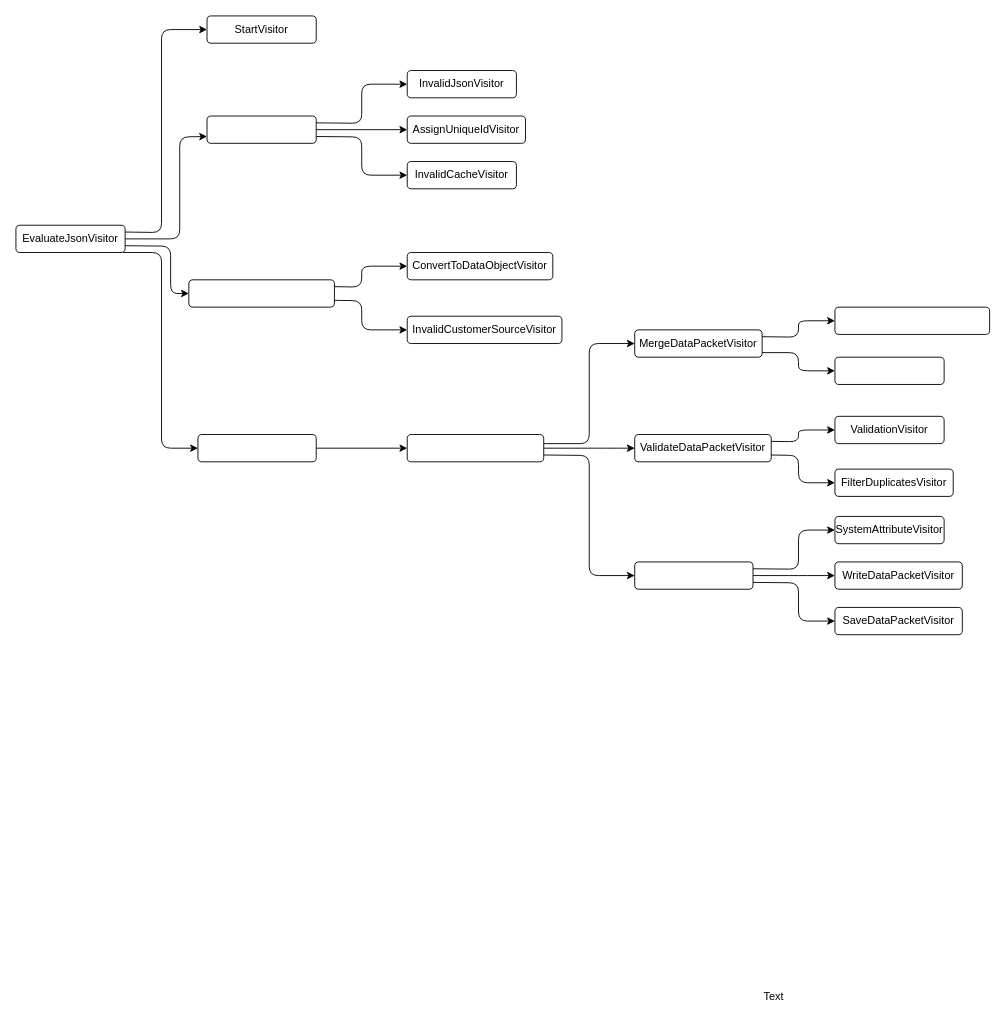
Some shapes in this 1006 by 1022 pixel diagram are drawn without their labels. Each missing label, with the centre of its shape:
"DataPacketSinkVisitor" belongs at (x=693, y=575).
"HandleDataPacketVisitor" belongs at (x=475, y=448).
"MapDataPacketVisitor" belongs at (x=256, y=448).
"MergeVisitor" belongs at (x=889, y=370).
"QualifyingDataPacketVisitor" belongs at (x=261, y=293).
"SourceAttributeMappingVisitor" belongs at (x=912, y=320).
"ValidJsonVisitor" belongs at (x=261, y=129).
